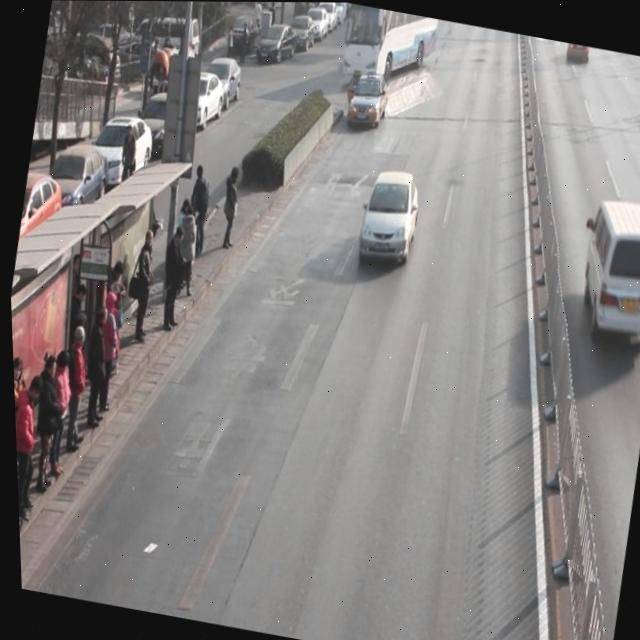car: (351, 164, 425, 268), (342, 69, 392, 131), (563, 41, 589, 63)
truck: (569, 194, 640, 351)
van: (338, 2, 440, 82)
